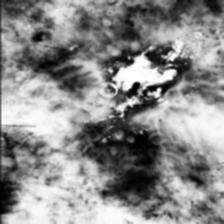Potentially Malignant Skin Tumors: (76, 37, 182, 172)
